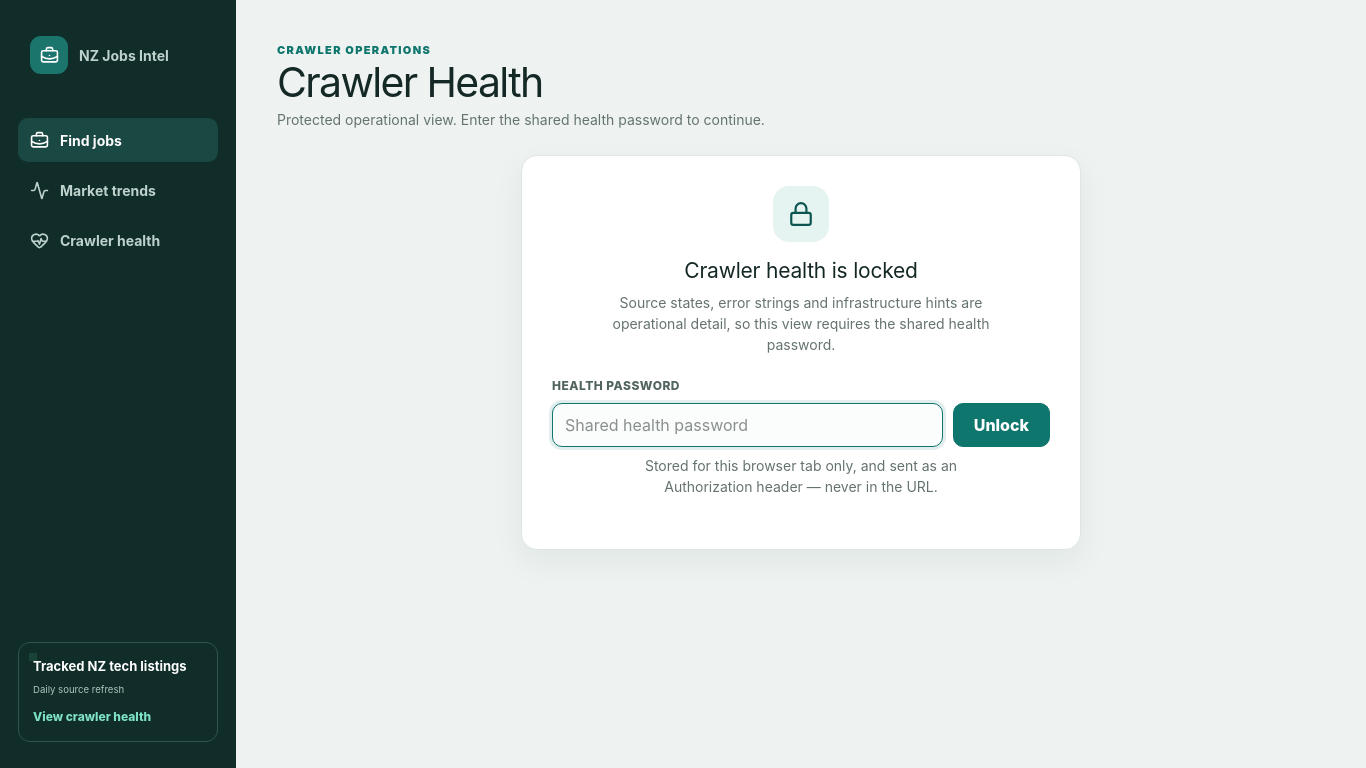
Test: HealthPage password gate › surfaces the rate-limit message after too many failures
Type "wrong" into the password field labelled "Health password" at (747, 425), box [552,403,943,447]
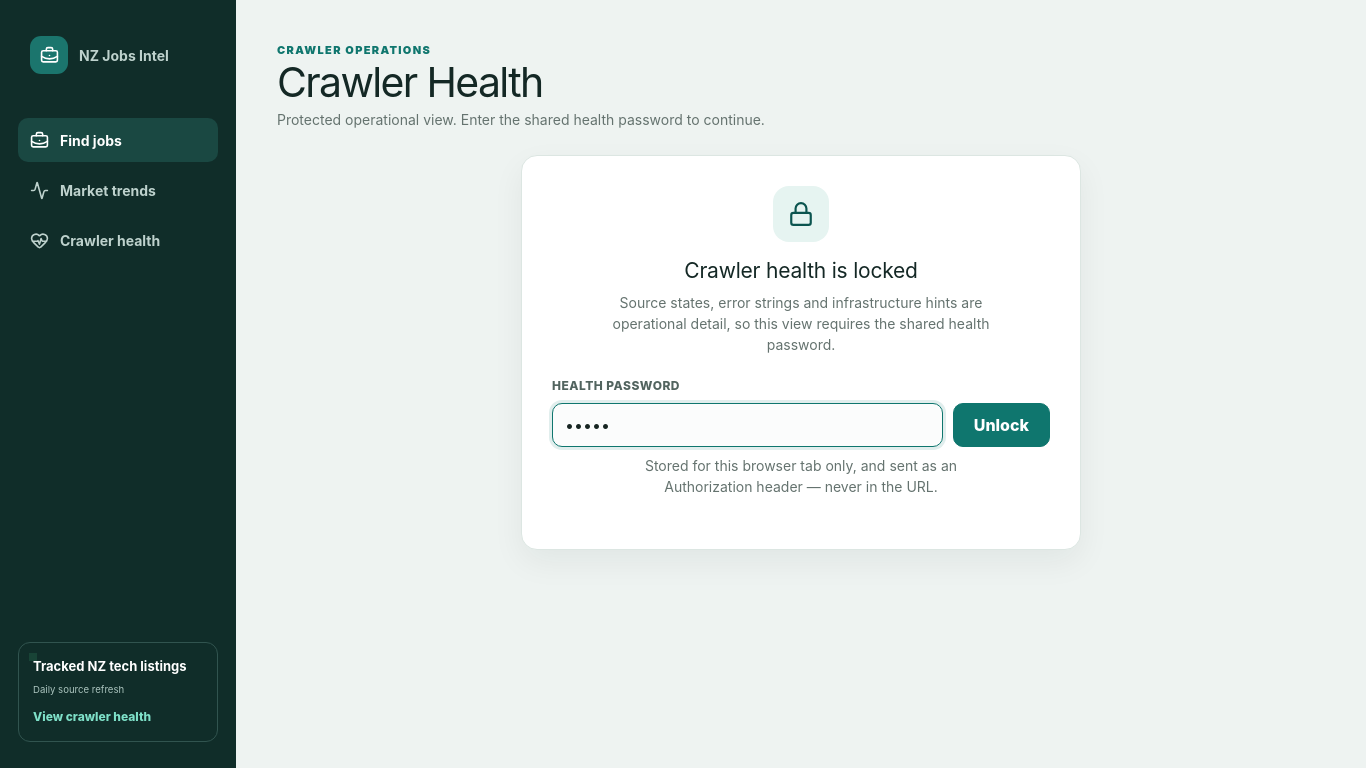
Click the button "Unlock" at (1001, 425), box [953,403,1050,447]
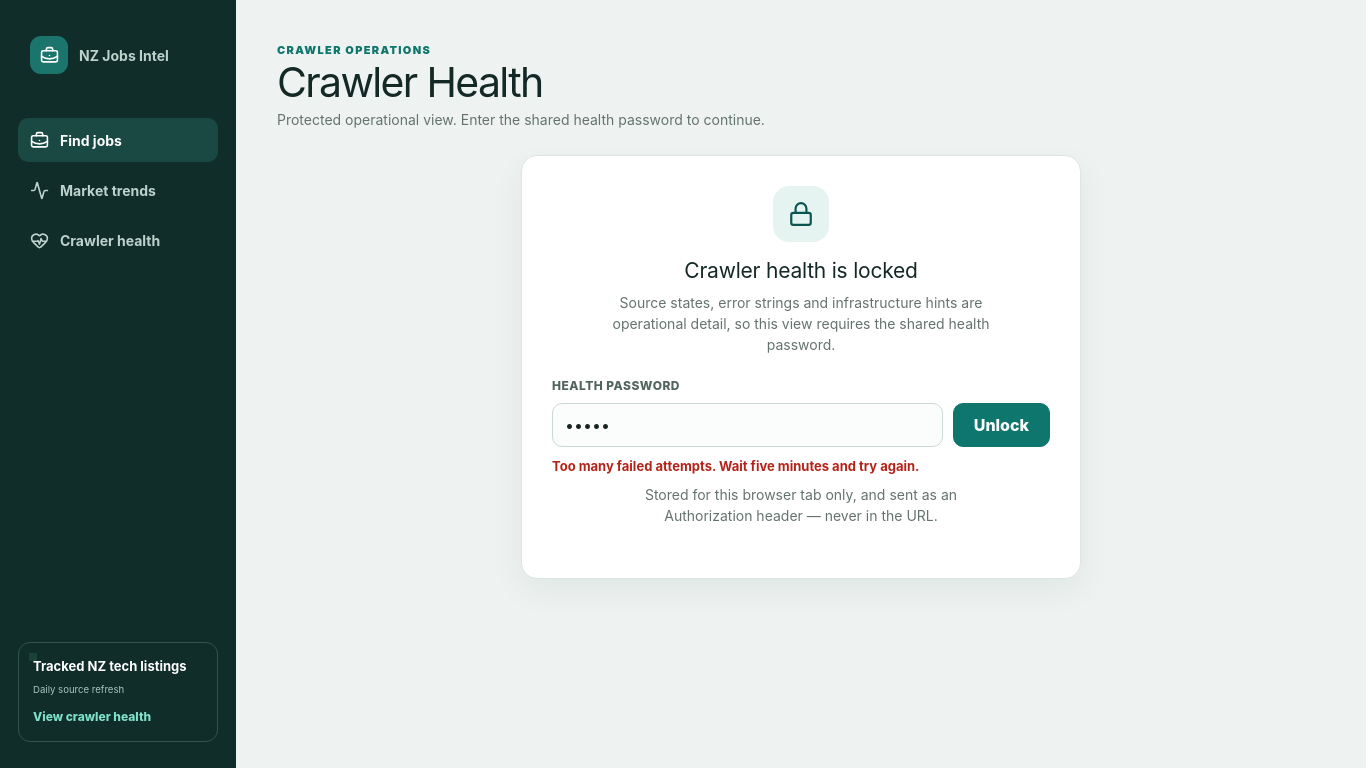
Check: the message shows "Too many failed attempts", box [552,458,920,474]
